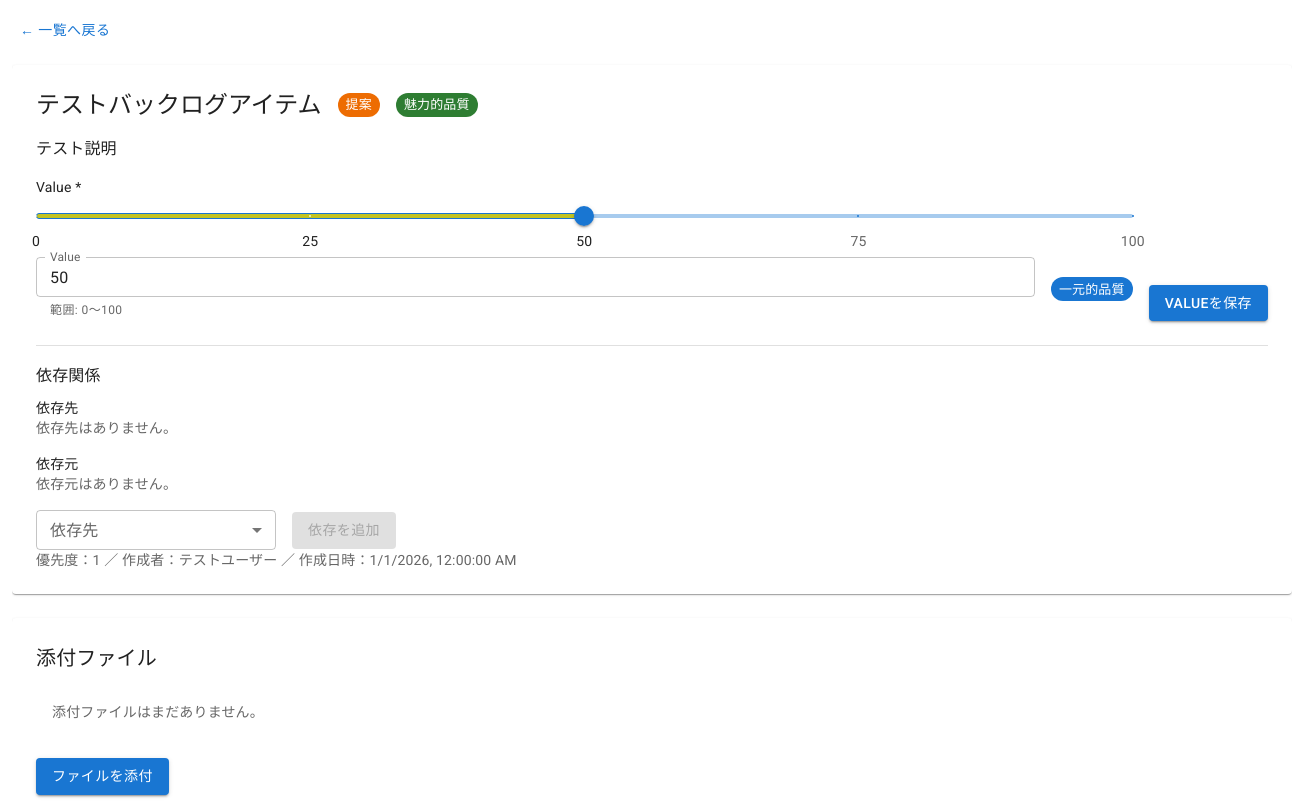
Scenario: BacklogItemDetail › 品質カテゴリ表示 › 品質カテゴリバッジにツールチップが表示される
Expected: the heading "テストバックログアイテム" is shown, [36,88,322,120]
Hover over the text "魅力的品質" at (437, 104), box [404,97,470,112]
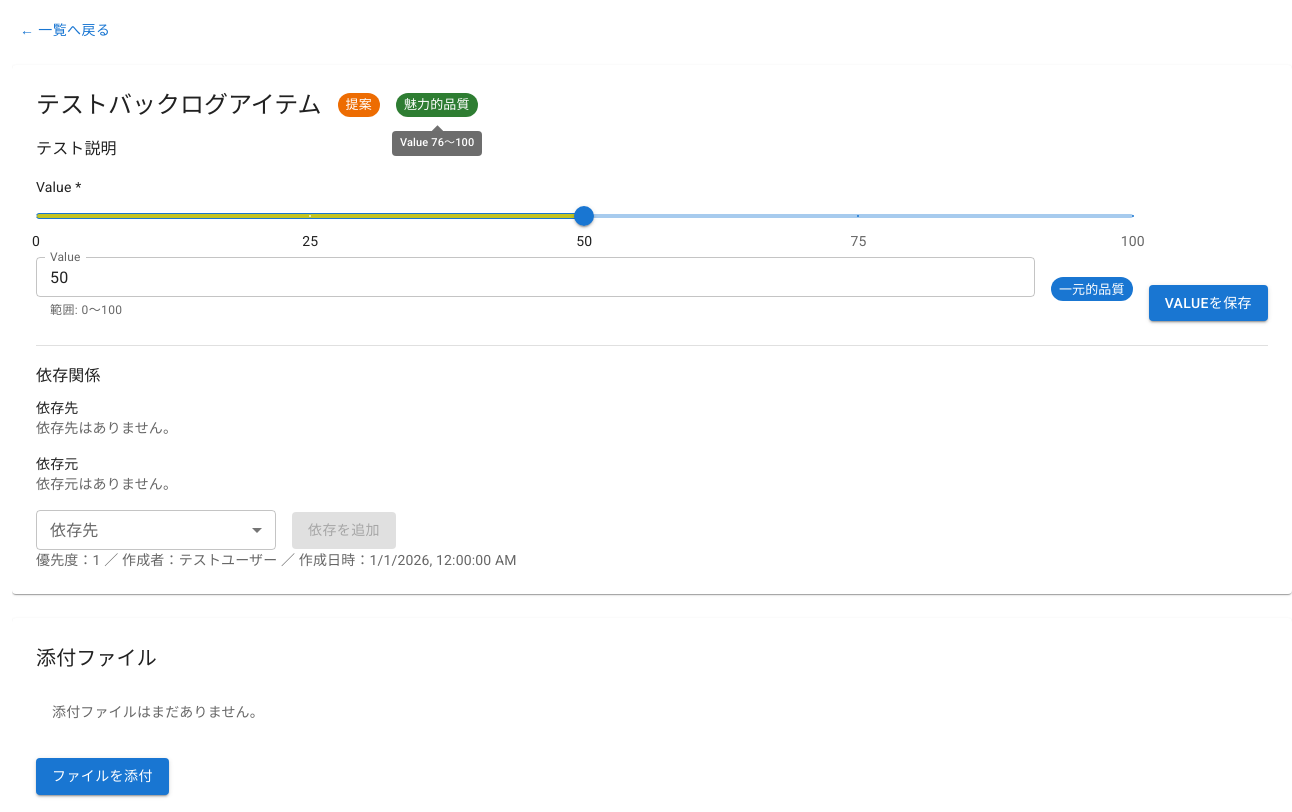
Now the tooltip "Value 76〜100" is shown, box [392,117,482,156]
